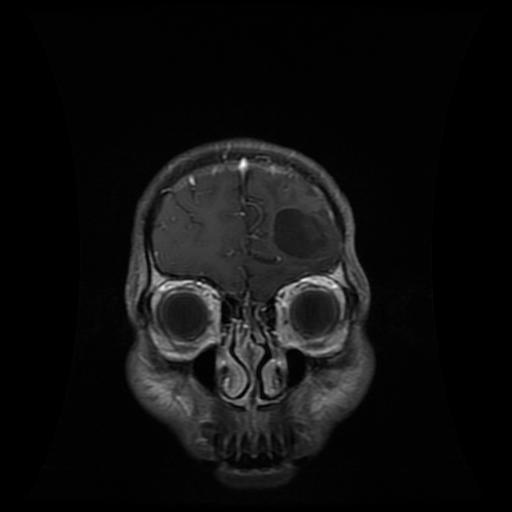Gliomia_tumour: (274, 206, 338, 258)
